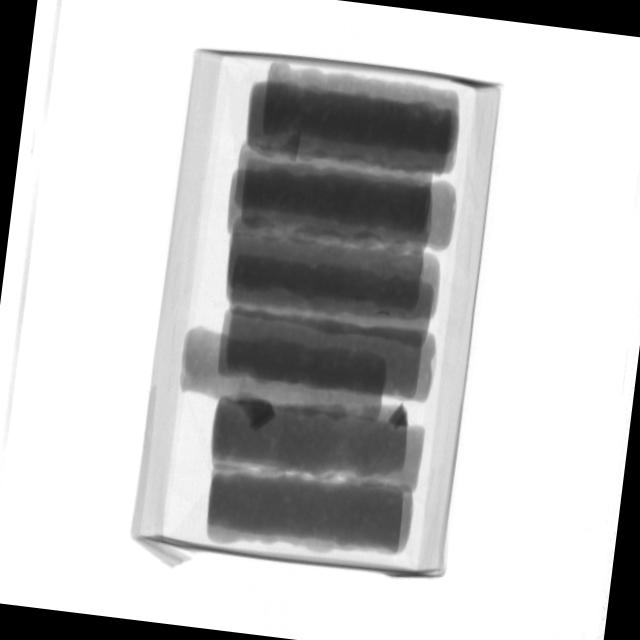ym: (238, 398, 279, 433), (282, 135, 305, 162), (389, 405, 411, 432)
